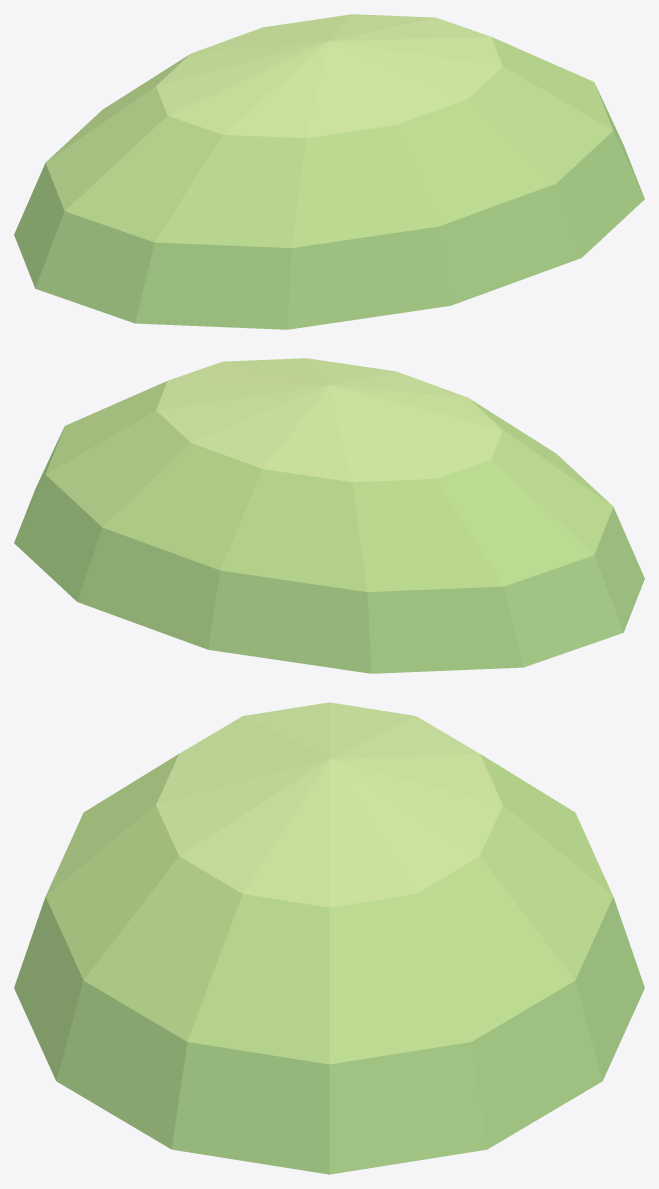
Rendered from grass-hill.glb.
3 renders of one model, top to bottom at view 1: azimuth 30°, elevation 25°; view 2: azimuth 150°, elevation 25°; view 3: azimuth 270°, elevation 25°, orthographic. The views are drawn at different scales.
Visible parts, largest first — view 1: Part1, Part0, Part2; view 2: Part1, Part0, Part2; view 3: Part1, Part0, Part2.
Boxes of the visible parts, x1,y1,x2,y2 form: Part1: (45, 37, 613, 247); Part0: (14, 85, 644, 329); Part2: (156, 14, 502, 138); Part1: (45, 381, 613, 591); Part0: (14, 429, 644, 673); Part2: (156, 358, 502, 482); Part1: (45, 754, 613, 1064); Part0: (14, 897, 644, 1174); Part2: (156, 702, 502, 907).
Size of the model in its own units: 14 by 4 by 10.
